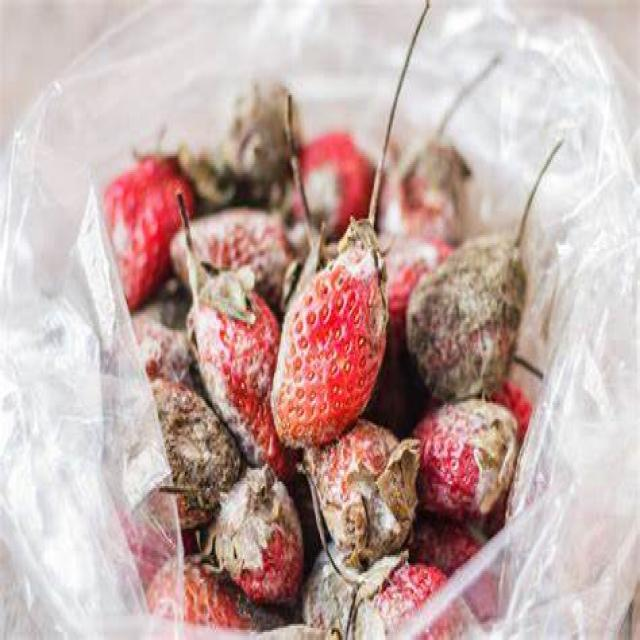Moho gris: (264, 221, 390, 452), (408, 218, 552, 404), (108, 361, 259, 522), (414, 374, 520, 536), (201, 450, 312, 604), (304, 530, 459, 640), (301, 421, 422, 558), (161, 197, 305, 309), (151, 535, 295, 640), (387, 118, 476, 241), (214, 91, 318, 194)
